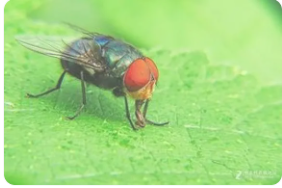liriomyza: (17, 21, 169, 131)
